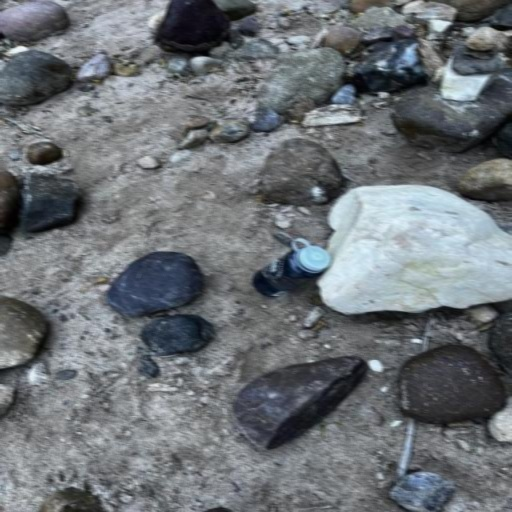bottle: (254, 238, 332, 298)
